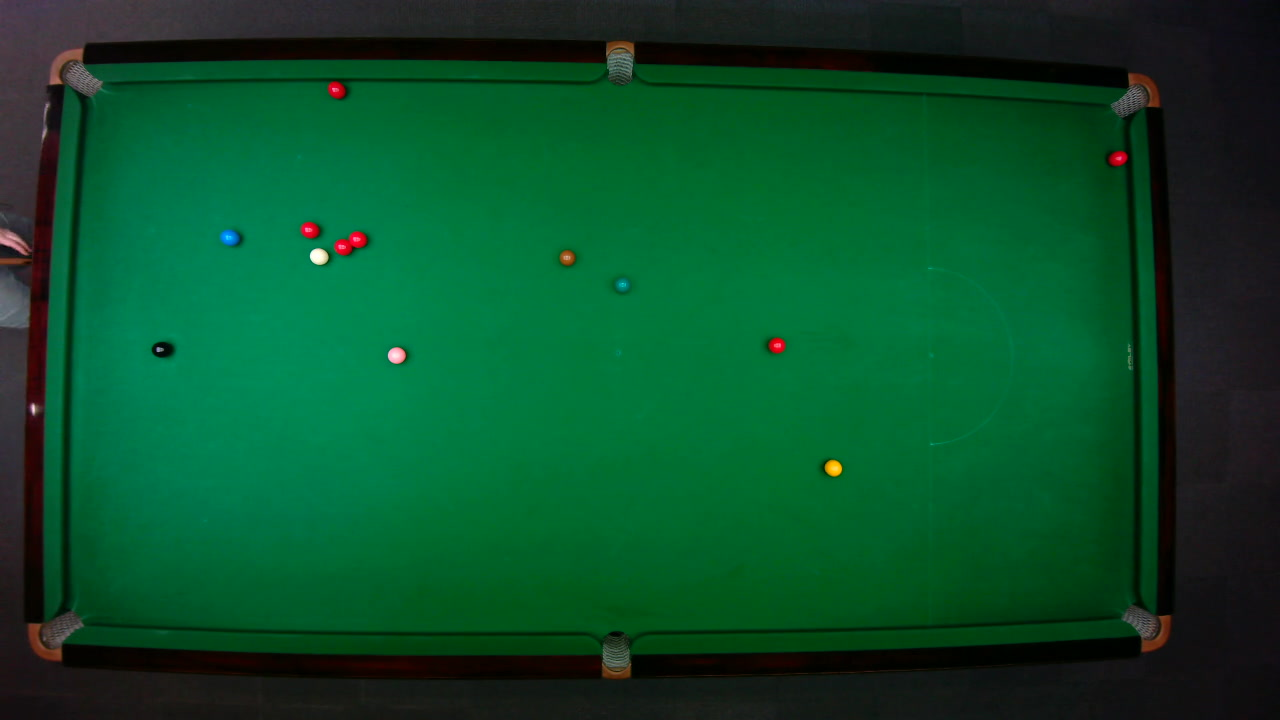bag: (25, 608, 84, 661), (46, 47, 103, 97), (1119, 603, 1171, 651), (1108, 72, 1160, 118), (601, 629, 630, 679), (605, 38, 633, 86)
black: (150, 340, 172, 357)
blue: (218, 228, 240, 246)
brown: (557, 249, 575, 265)
green: (613, 276, 630, 293)
pink: (386, 345, 406, 364)
red: (326, 79, 346, 99), (332, 236, 353, 255), (1106, 149, 1129, 166), (347, 229, 367, 248), (299, 220, 320, 238), (766, 336, 786, 354)
white: (308, 246, 329, 265)
yellow: (822, 458, 842, 476)
zone: (927, 266, 1013, 445)
